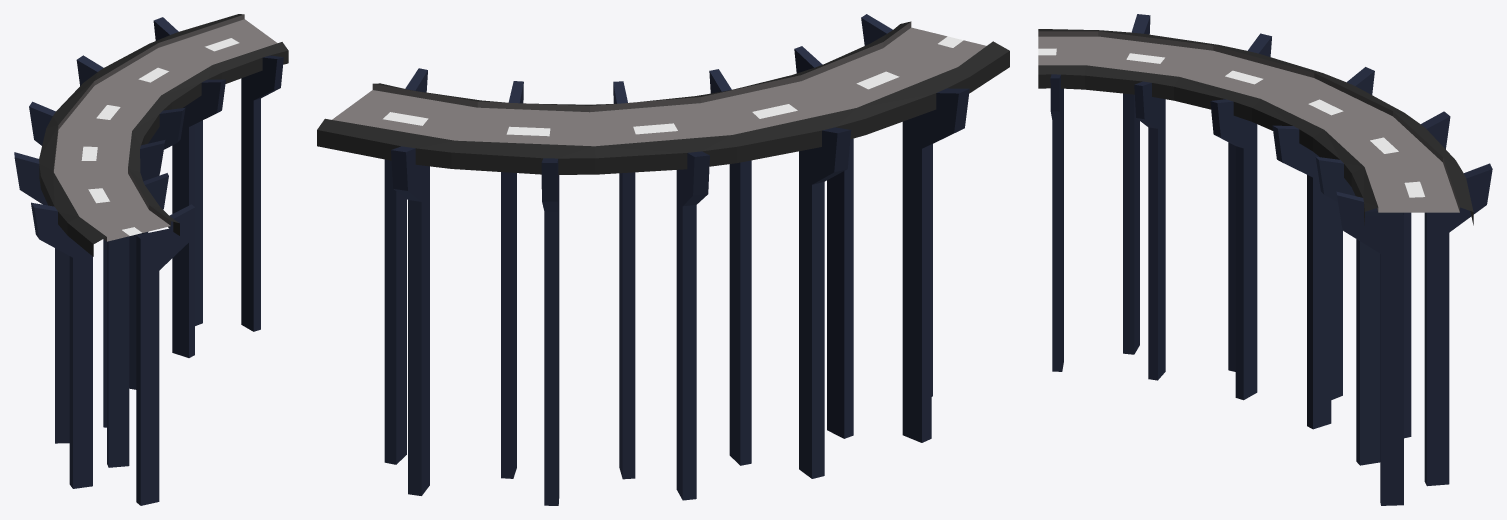
The model's file is road_bend_11_left_type_03.fbx.
3 views of the same model, side by side, from view 1: azimuth 30°, elevation 25°; view 2: azimuth 150°, elevation 25°; view 3: azimuth 270°, elevation 25° (orthographic). The views are drawn at different scales.
Visible parts, largest first — view 1: road_bend_11_left_type_03; view 2: road_bend_11_left_type_03; view 3: road_bend_11_left_type_03.
Part boxes in pixels (x1,y1,x2,y2): road_bend_11_left_type_03: (14, 14, 288, 505); road_bend_11_left_type_03: (317, 14, 1009, 505); road_bend_11_left_type_03: (1038, 14, 1492, 505).
Size of the model in its own units: 1385 by 1057 by 1395.
1 material, 1 textured.
